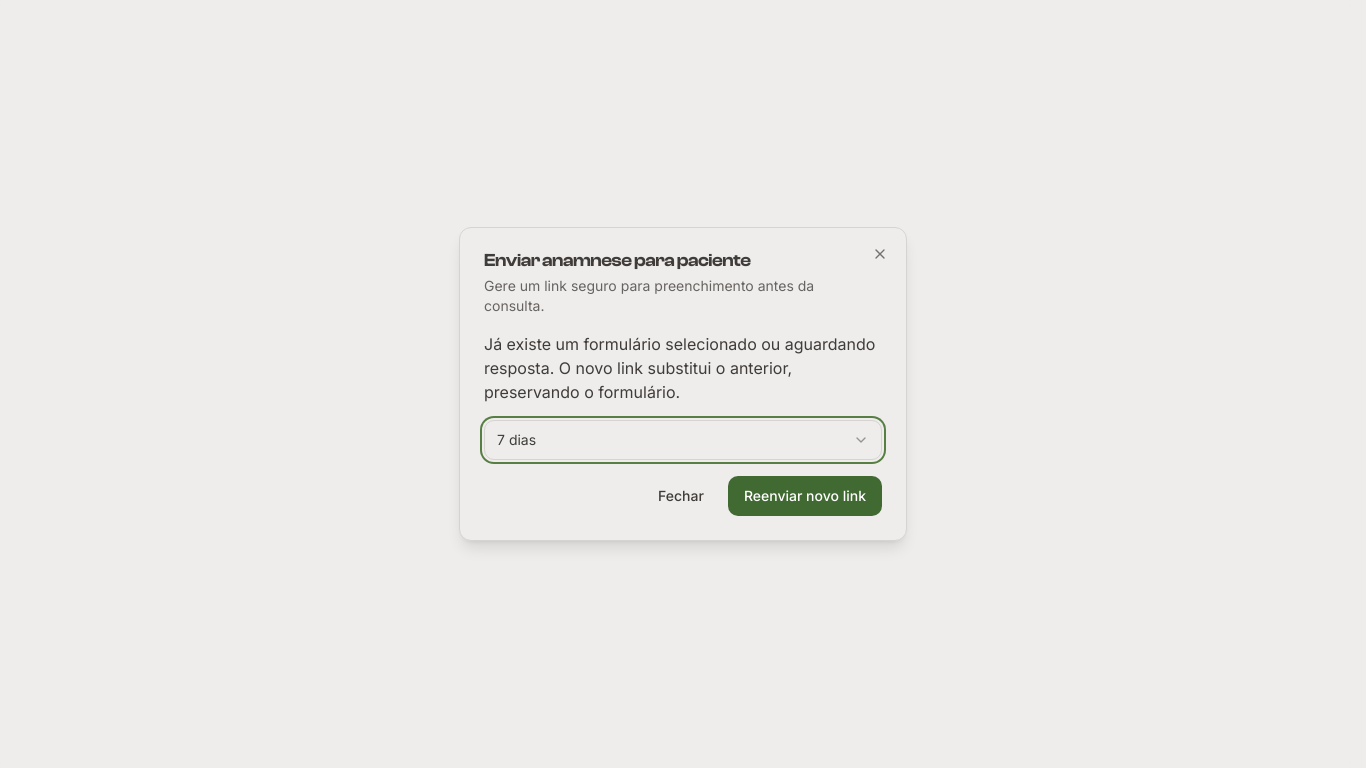
Test: offers manual copying when clipboard is denied
This screenshot has width=1366, height=768.
Click the button "Reenviar novo link" at (805, 496), box [728,476,882,516]
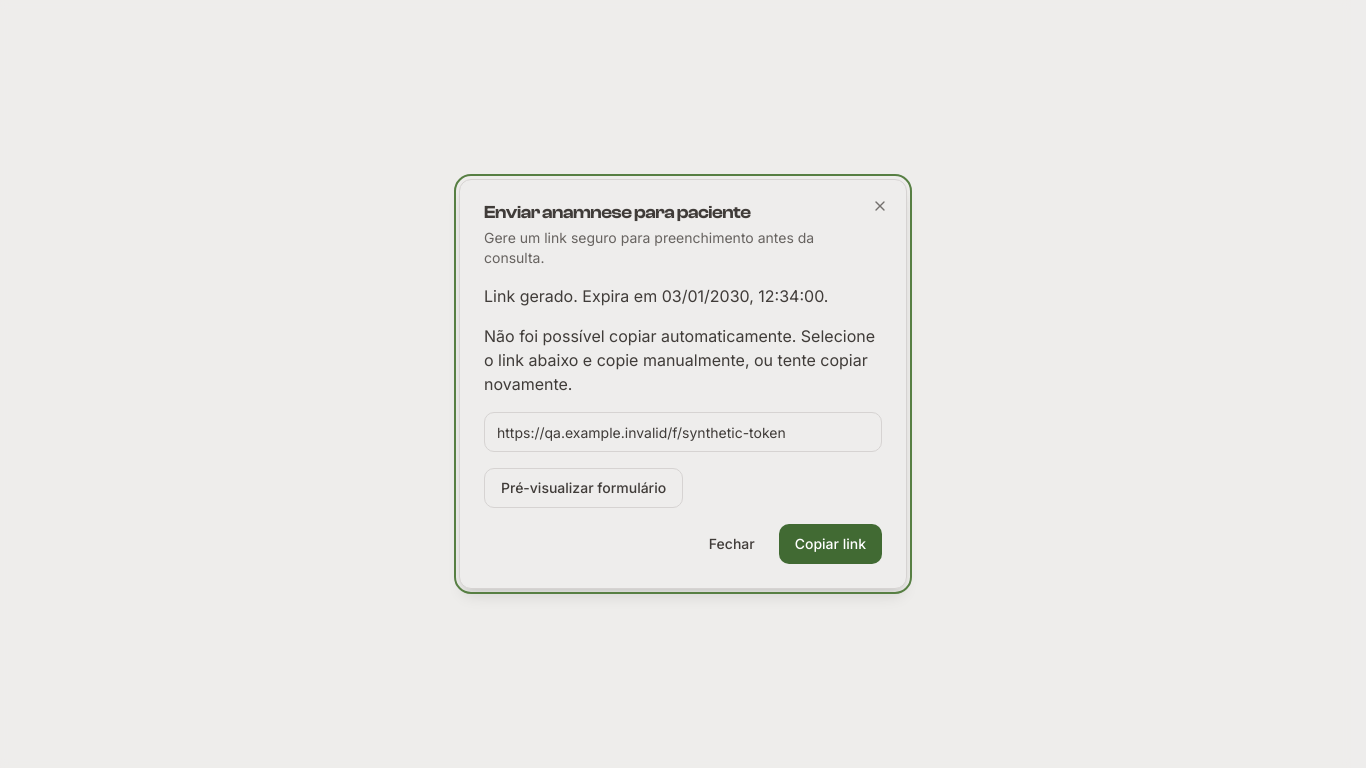
Result: the 2nd message shows "copie manualmente" at [484,326,875,394]
Result: the field named "Link do formulário" holds "https://qa.example.invalid/f/synthetic-token" at [484,412,882,452]
